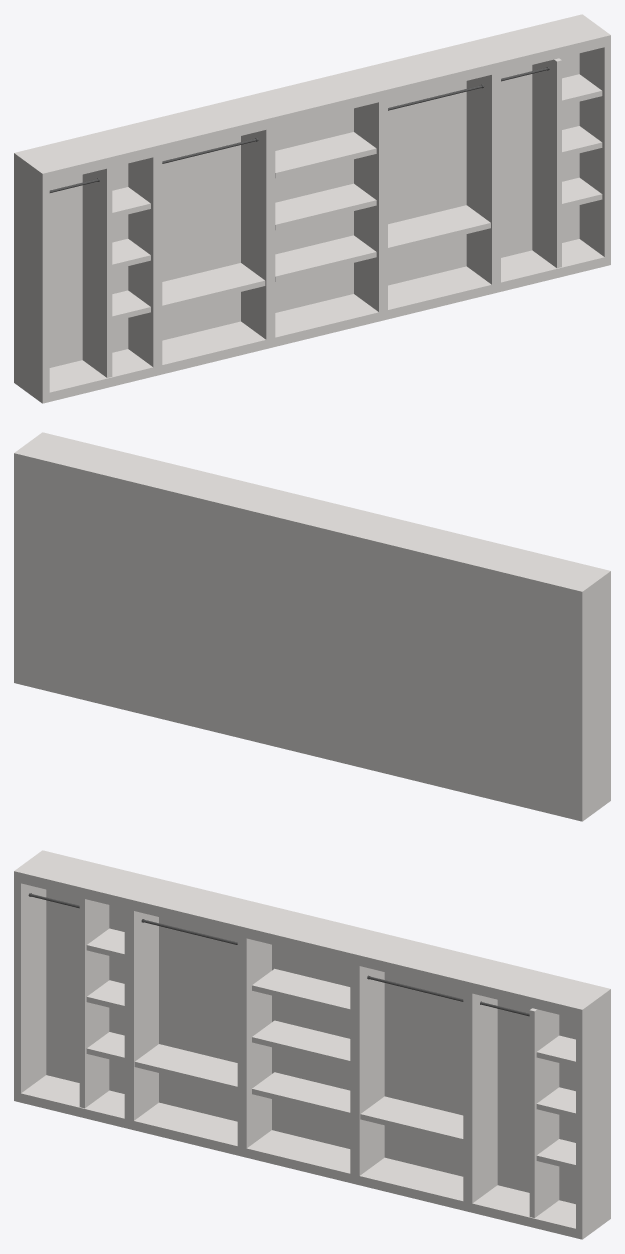
File: Closet.fbx
3 views of the same model, one above another, from view 1: azimuth 30°, elevation 25°; view 2: azimuth 150°, elevation 25°; view 3: azimuth 330°, elevation 25° (orthographic).
Visible parts, largest first — view 1: Cube.366, bool_cube.014, bool_cube.009, bool_cube.010, bool_cube.008, bool_cube.013, bool_cube.012, bool_cube.011; view 2: Cube.366; view 3: Cube.366, bool_cube.014, bool_cube.009, bool_cube.010, bool_cube.013, bool_cube.008, bool_cube.012, bool_cube.011.
Boxes of the visible parts, <box> form: Cube.366: <box>14,14,610,403</box>; bool_cube.014: <box>275,132,376,281</box>; bool_cube.009: <box>82,167,112,377</box>; bool_cube.010: <box>532,58,561,268</box>; bool_cube.008: <box>162,263,265,310</box>; bool_cube.013: <box>388,205,490,253</box>; bool_cube.012: <box>562,74,602,209</box>; bool_cube.011: <box>112,187,150,321</box>; Cube.366: <box>14,432,610,821</box>; Cube.366: <box>14,850,610,1239</box>; bool_cube.014: <box>252,968,350,1117</box>; bool_cube.009: <box>79,898,109,1108</box>; bool_cube.010: <box>529,1008,559,1217</box>; bool_cube.013: <box>360,1096,463,1144</box>; bool_cube.008: <box>134,1044,237,1091</box>; bool_cube.012: <box>536,1035,575,1170</box>; bool_cube.011: <box>86,928,124,1062</box>.
Bounding box in the file's own units: 518 × 200 × 45.
